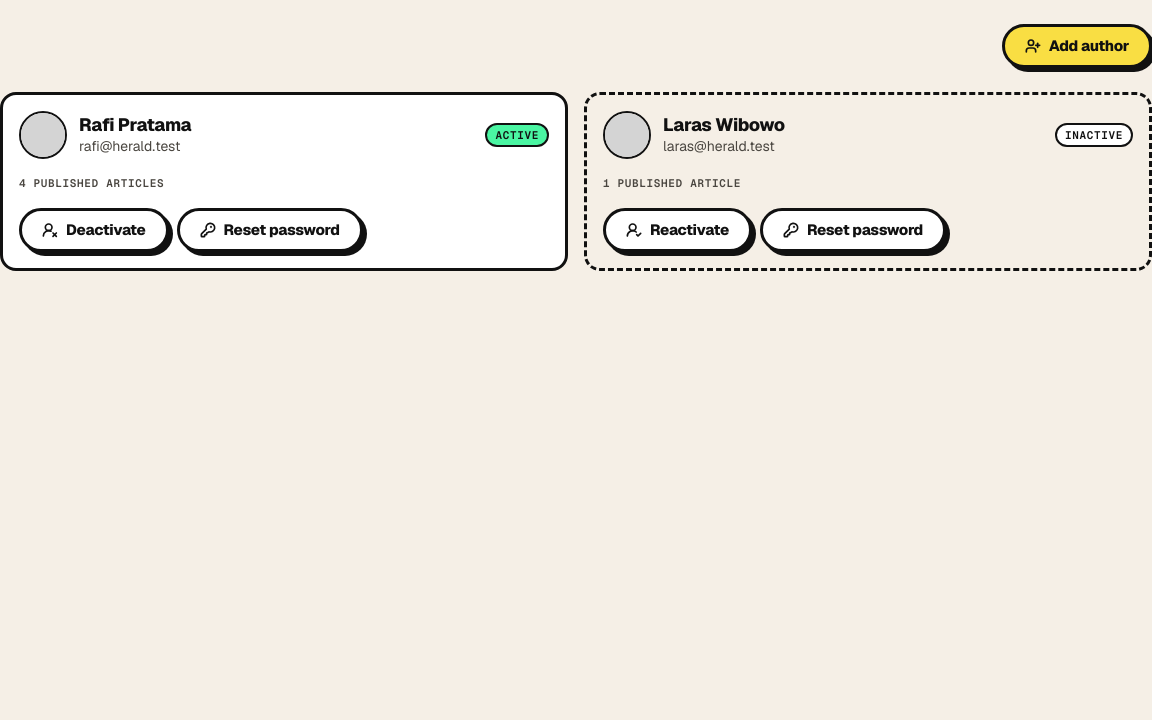
Test: AuthorManager › adds an author through the dialog
Click the button "Add author": (1077,46) x1=1002 y1=24 x2=1151 y2=68
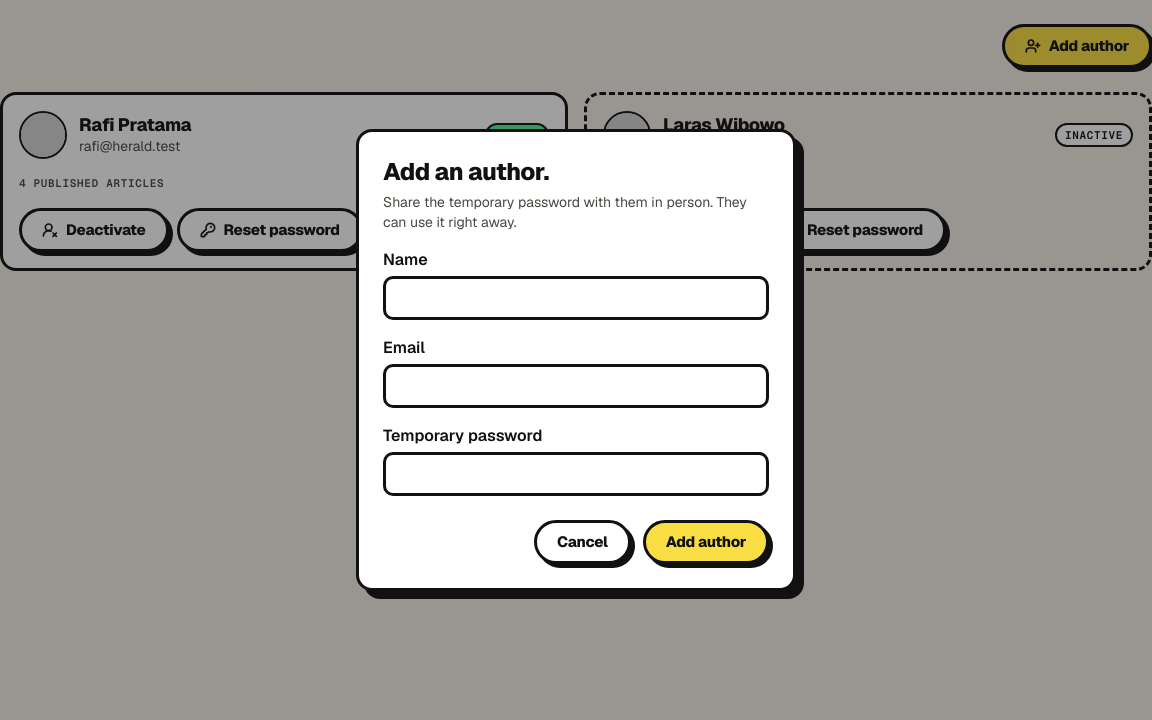
In the field labelled "Name": (576,298) x1=383 y1=276 x2=769 y2=320, type "Dina Kusuma"
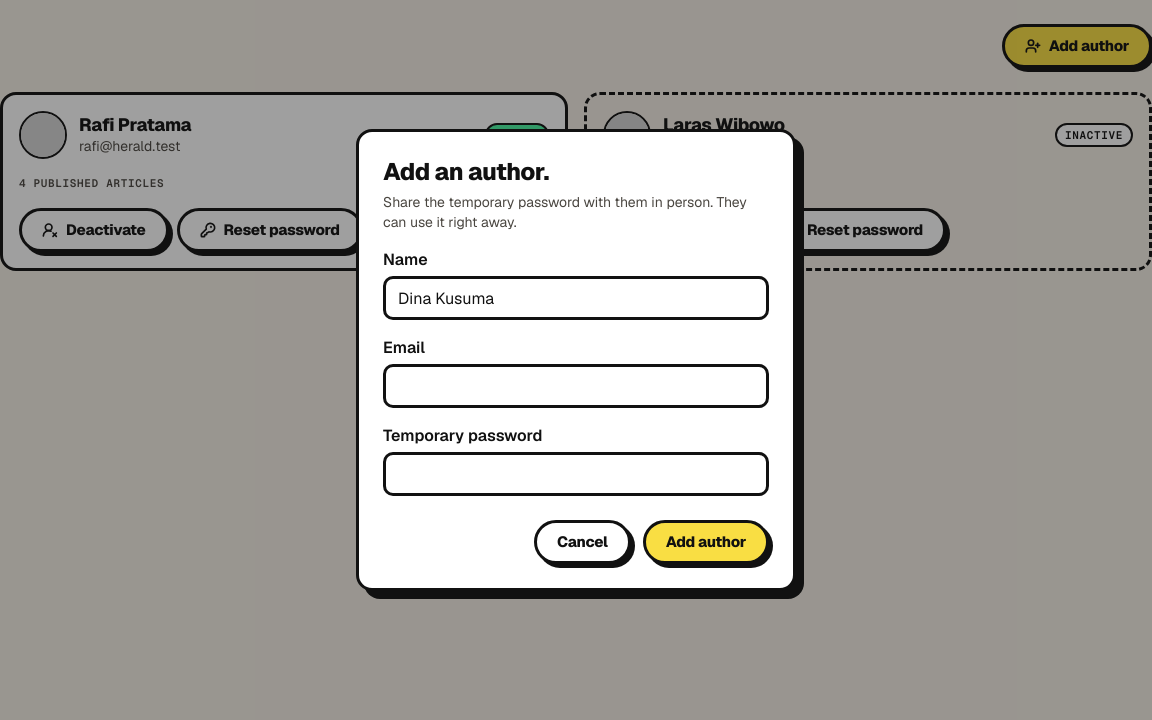
In the field labelled "Email": (576,386) x1=383 y1=364 x2=769 y2=408, type "dina@herald.test"
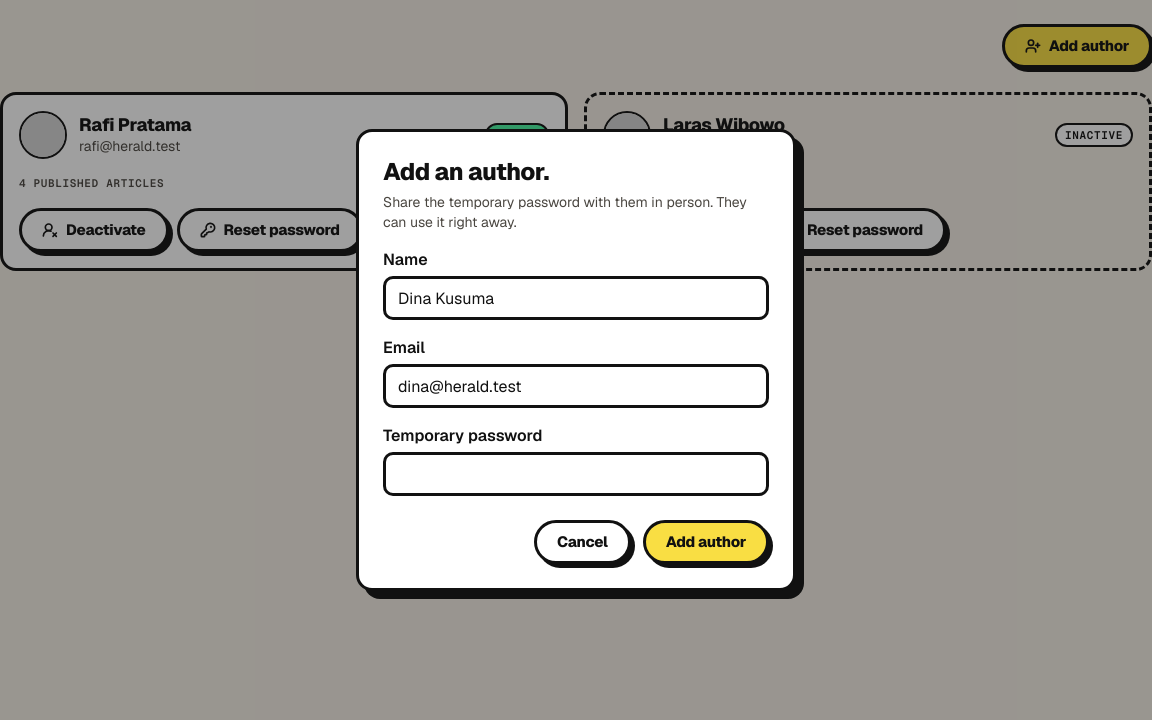
In the field labelled "Temporary password": (576,474) x1=383 y1=452 x2=769 y2=496, type "campus-2026"
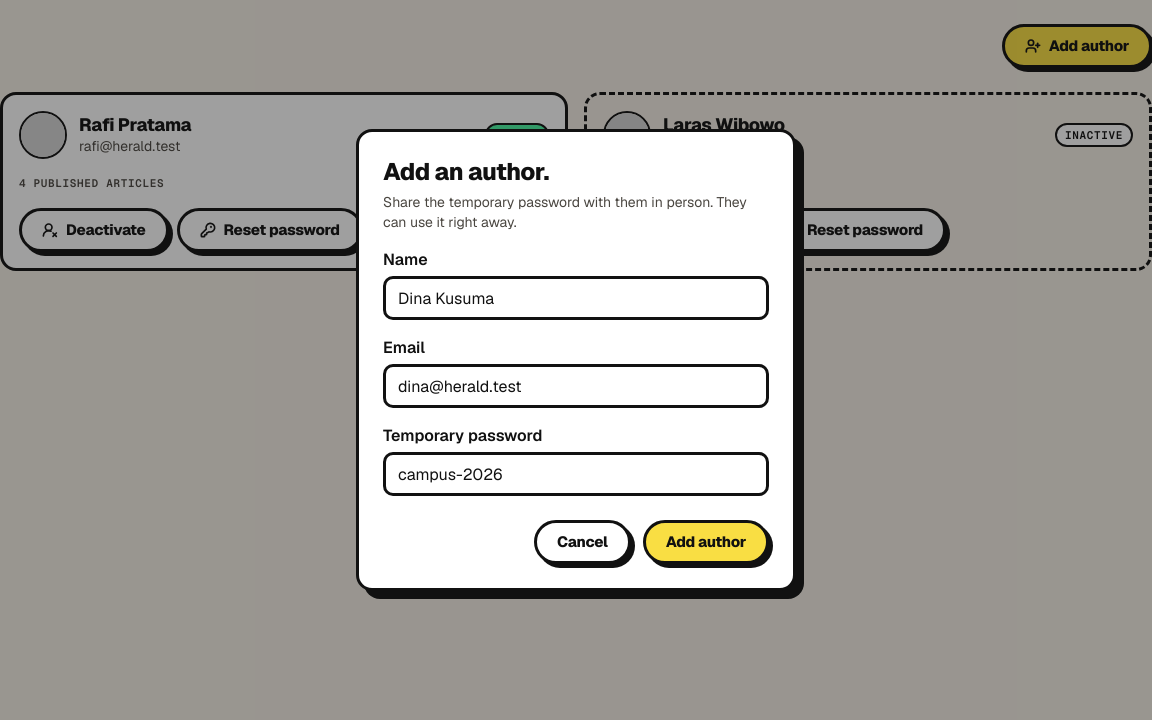
Click the button "Add author": (706,542) x1=643 y1=520 x2=769 y2=564
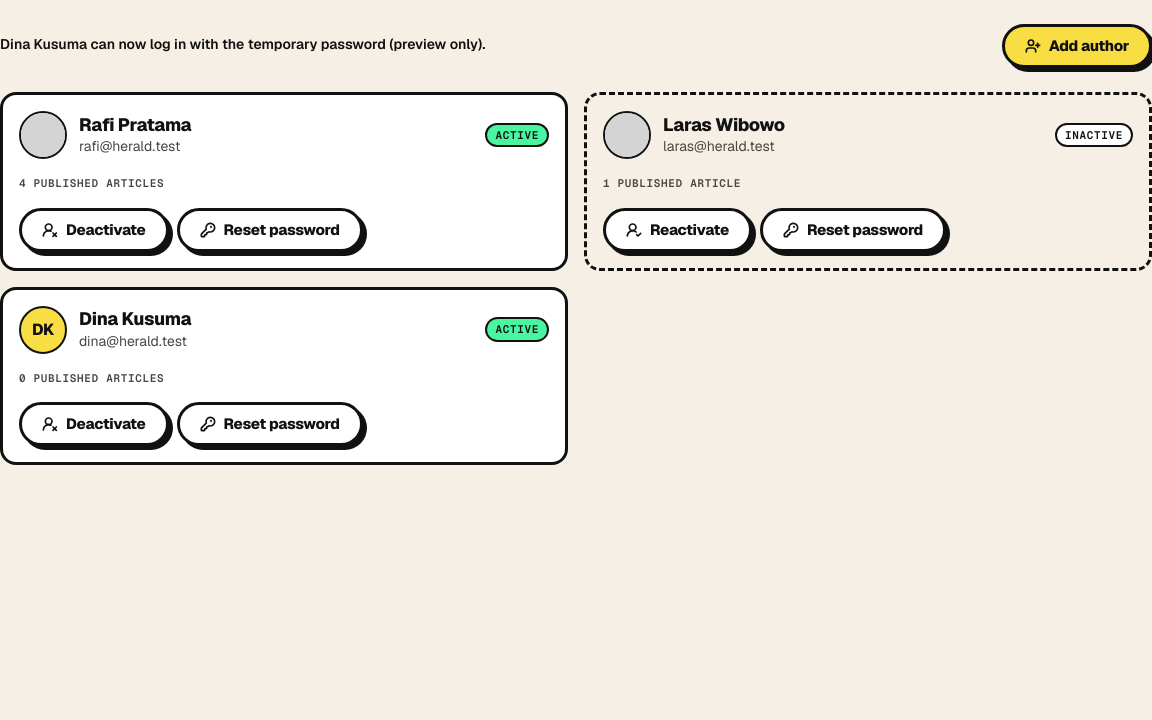
Check: the number of list items is 3, box x1=0 y1=92 x2=568 y2=270; x1=584 y1=92 x2=1151 y2=270; x1=0 y1=286 x2=568 y2=465
Check: the text "Dina Kusuma" is shown, box x1=79 y1=307 x2=191 y2=330
Check: the text "dina@herald.test" is shown, box x1=79 y1=332 x2=187 y2=350
